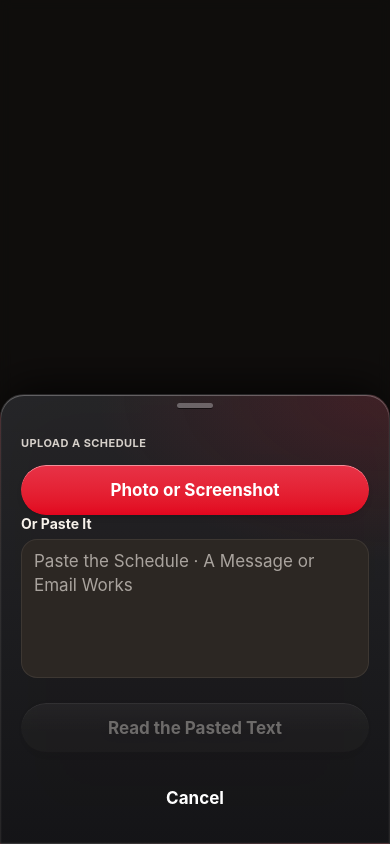
Test: Schedule upload: the review row shows every fact it read › keeps the date and the time range in a wrapping meta line
Type "anything" into the text box with placeholder "Paste the Schedule · A Message or Email Works" at (195, 608), box left=21, top=539, right=369, bottom=678
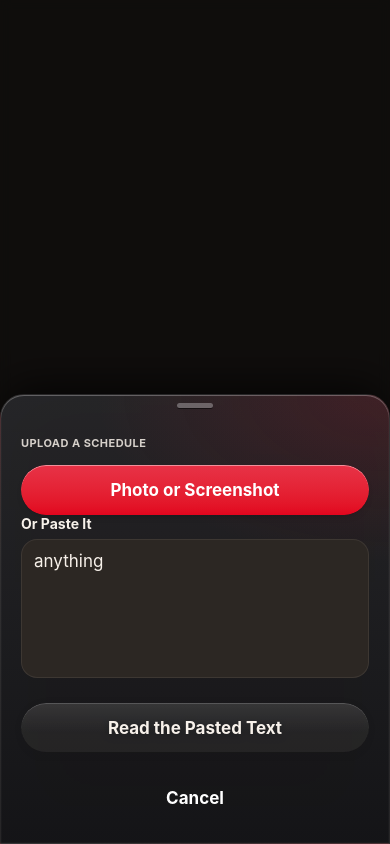
Click the button "Read the Pasted Text" at (195, 728), box left=21, top=703, right=369, bottom=753
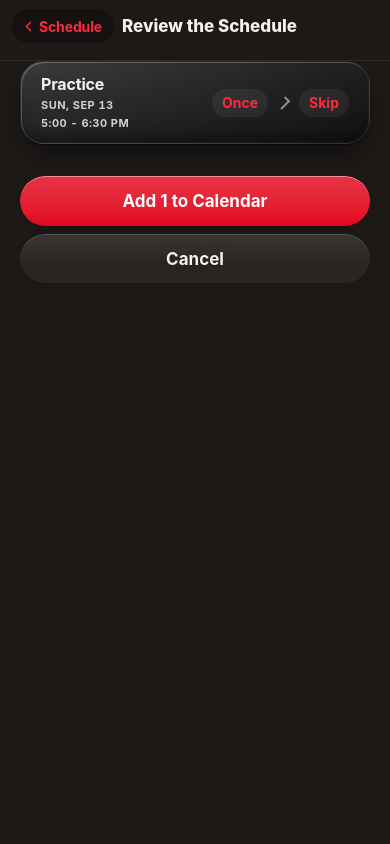
Expected: the text "Review the Schedule" is shown, left=122, top=15, right=297, bottom=37
Expected: the text with class "fact" reads "5:00 - 6:30 PM", left=41, top=116, right=129, bottom=130
